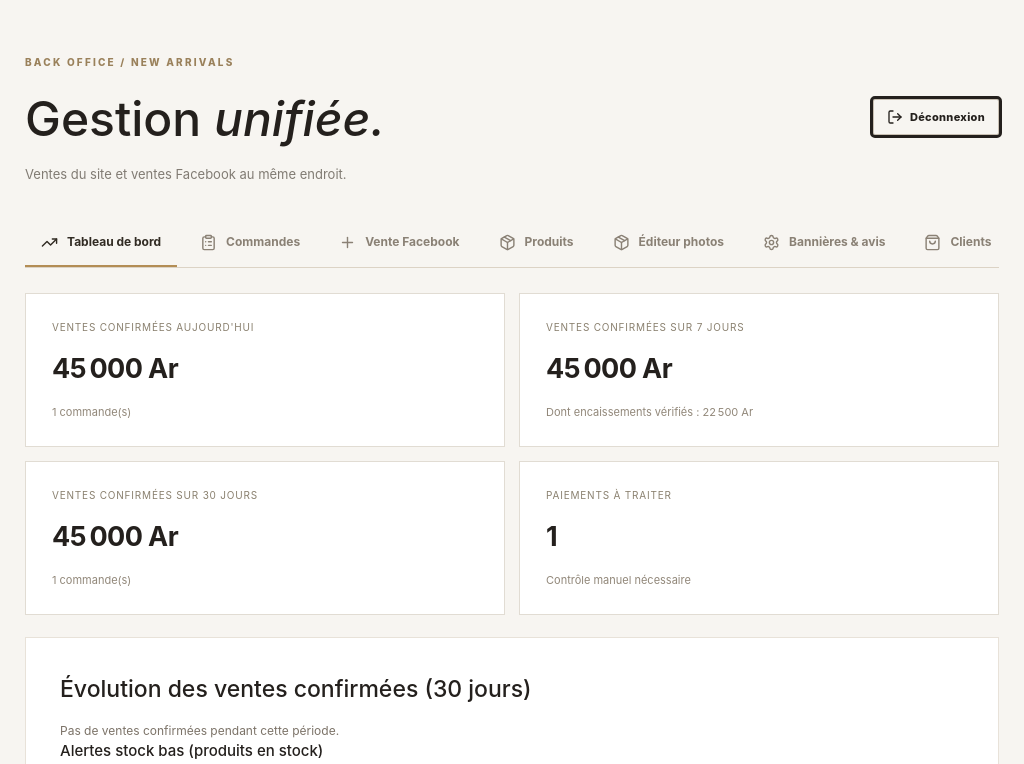
Test: affiche les refus du téléchargement CSV
The image size is (1024, 764).
Expected: the heading "Gestion unifiée." is shown, [25,82,385,154]
Click the button "Commandes" at point(250, 243), box [184,219,316,267]
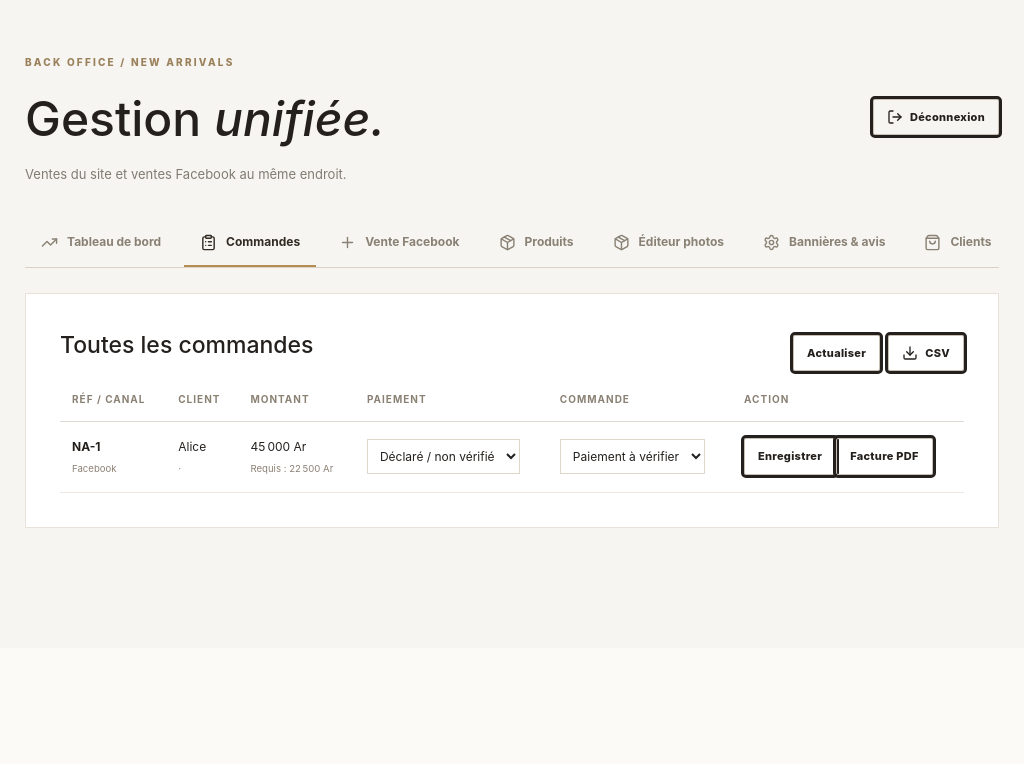
Click the button "CSV" at point(926, 353), box [888,334,964,371]
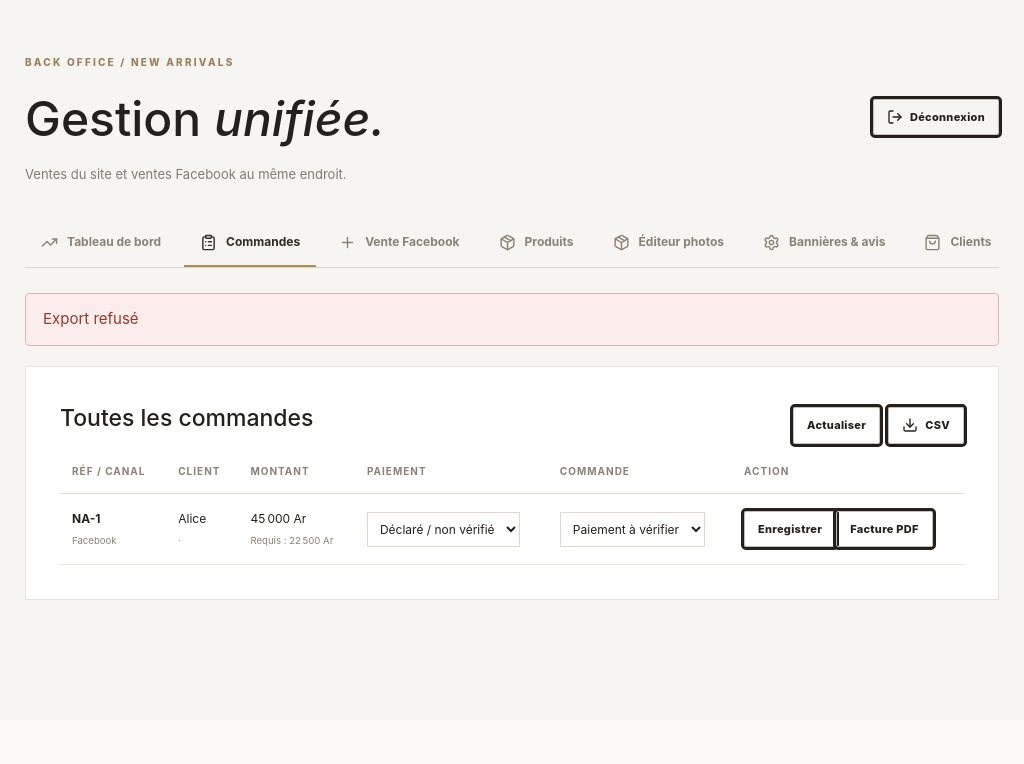
Expected: the text "Export refusé" is shown, [25,293,999,346]
